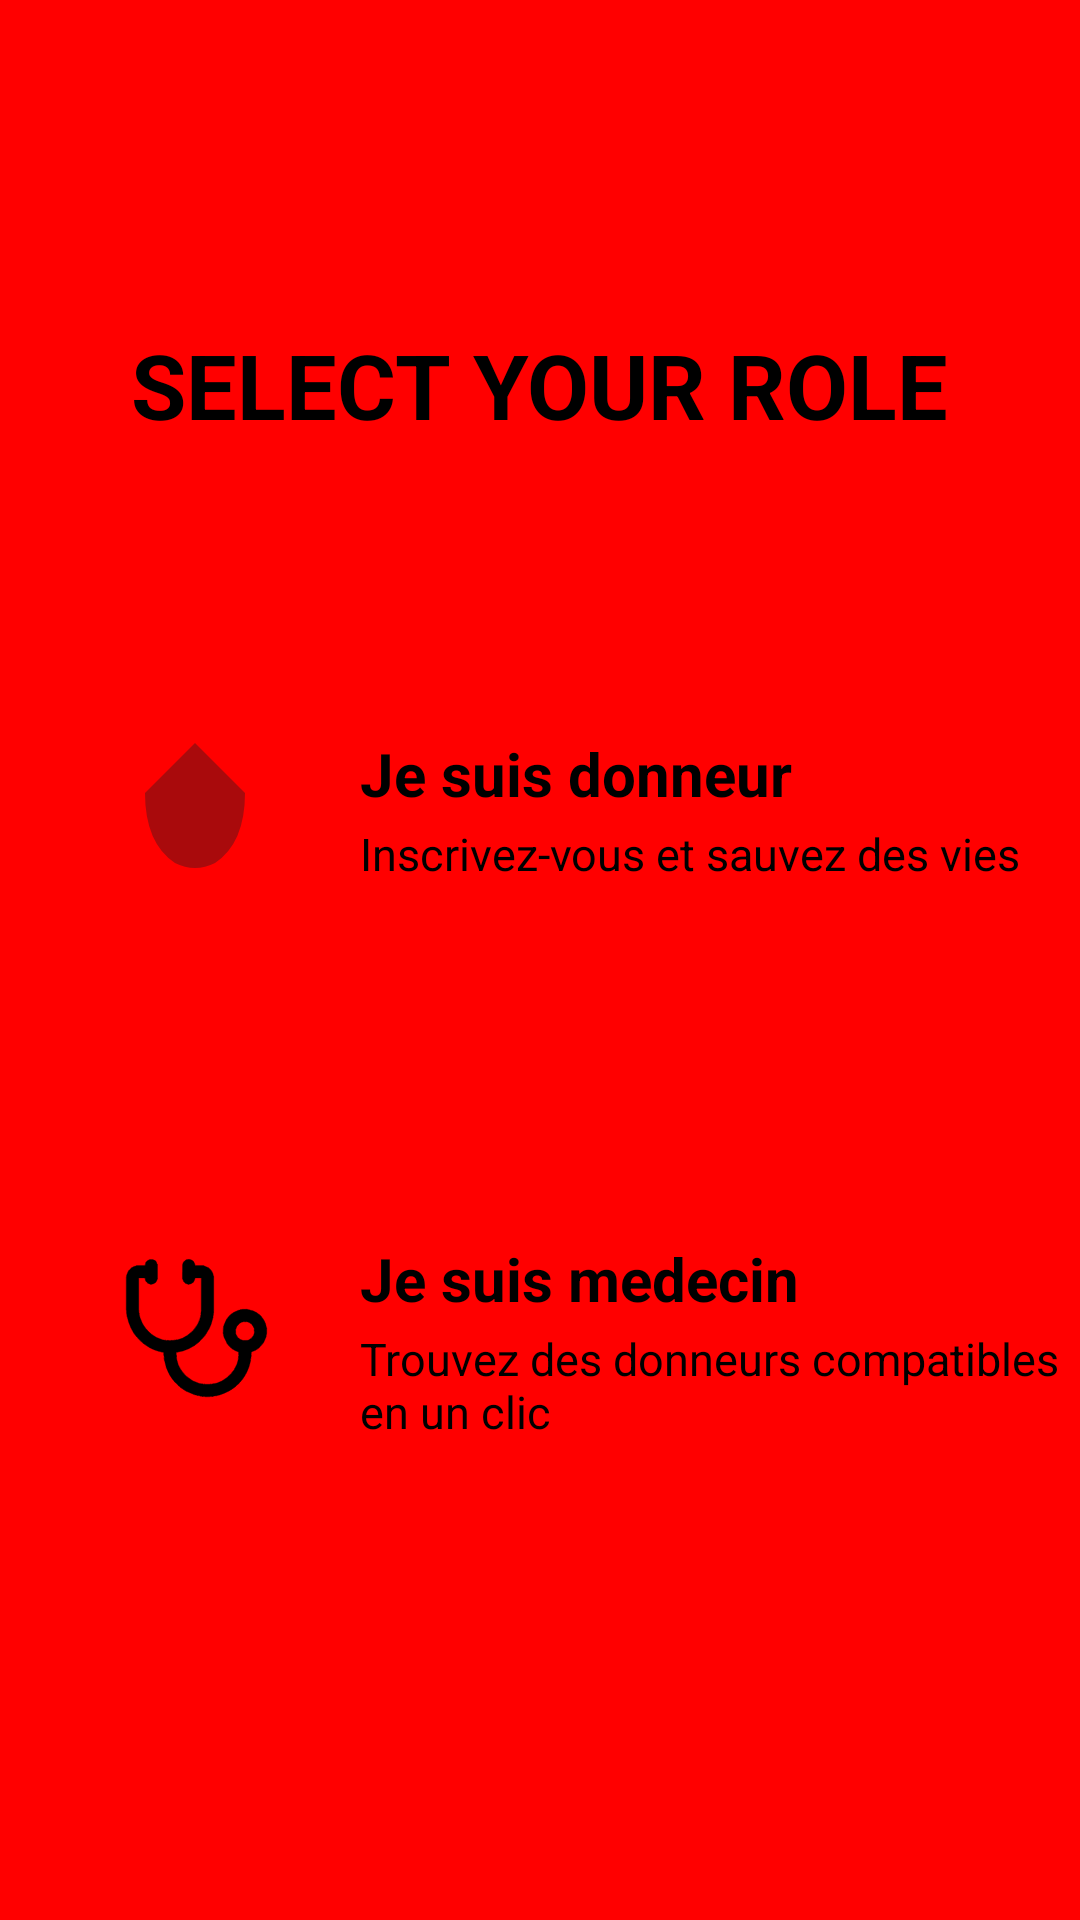

Where icons sit on this 1080px×1920px app screen, as rect(x1, y1, x2, y2):
blood: rect(145, 743, 245, 868)
doctor: rect(125, 1259, 267, 1398)
